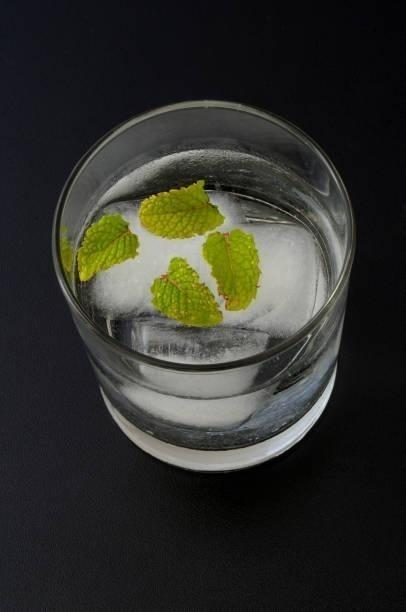glass-normal: (49, 96, 360, 474)
